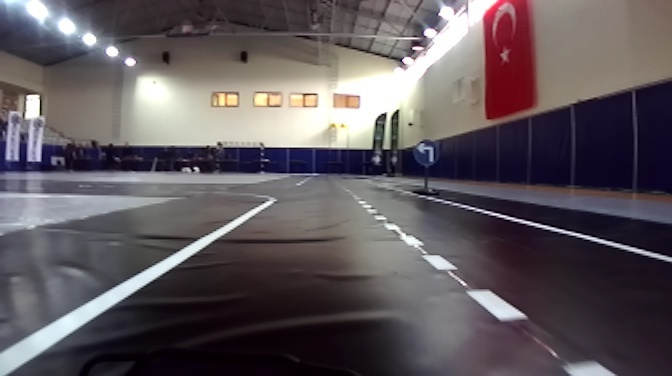sola_donus: (414, 141, 440, 166)
